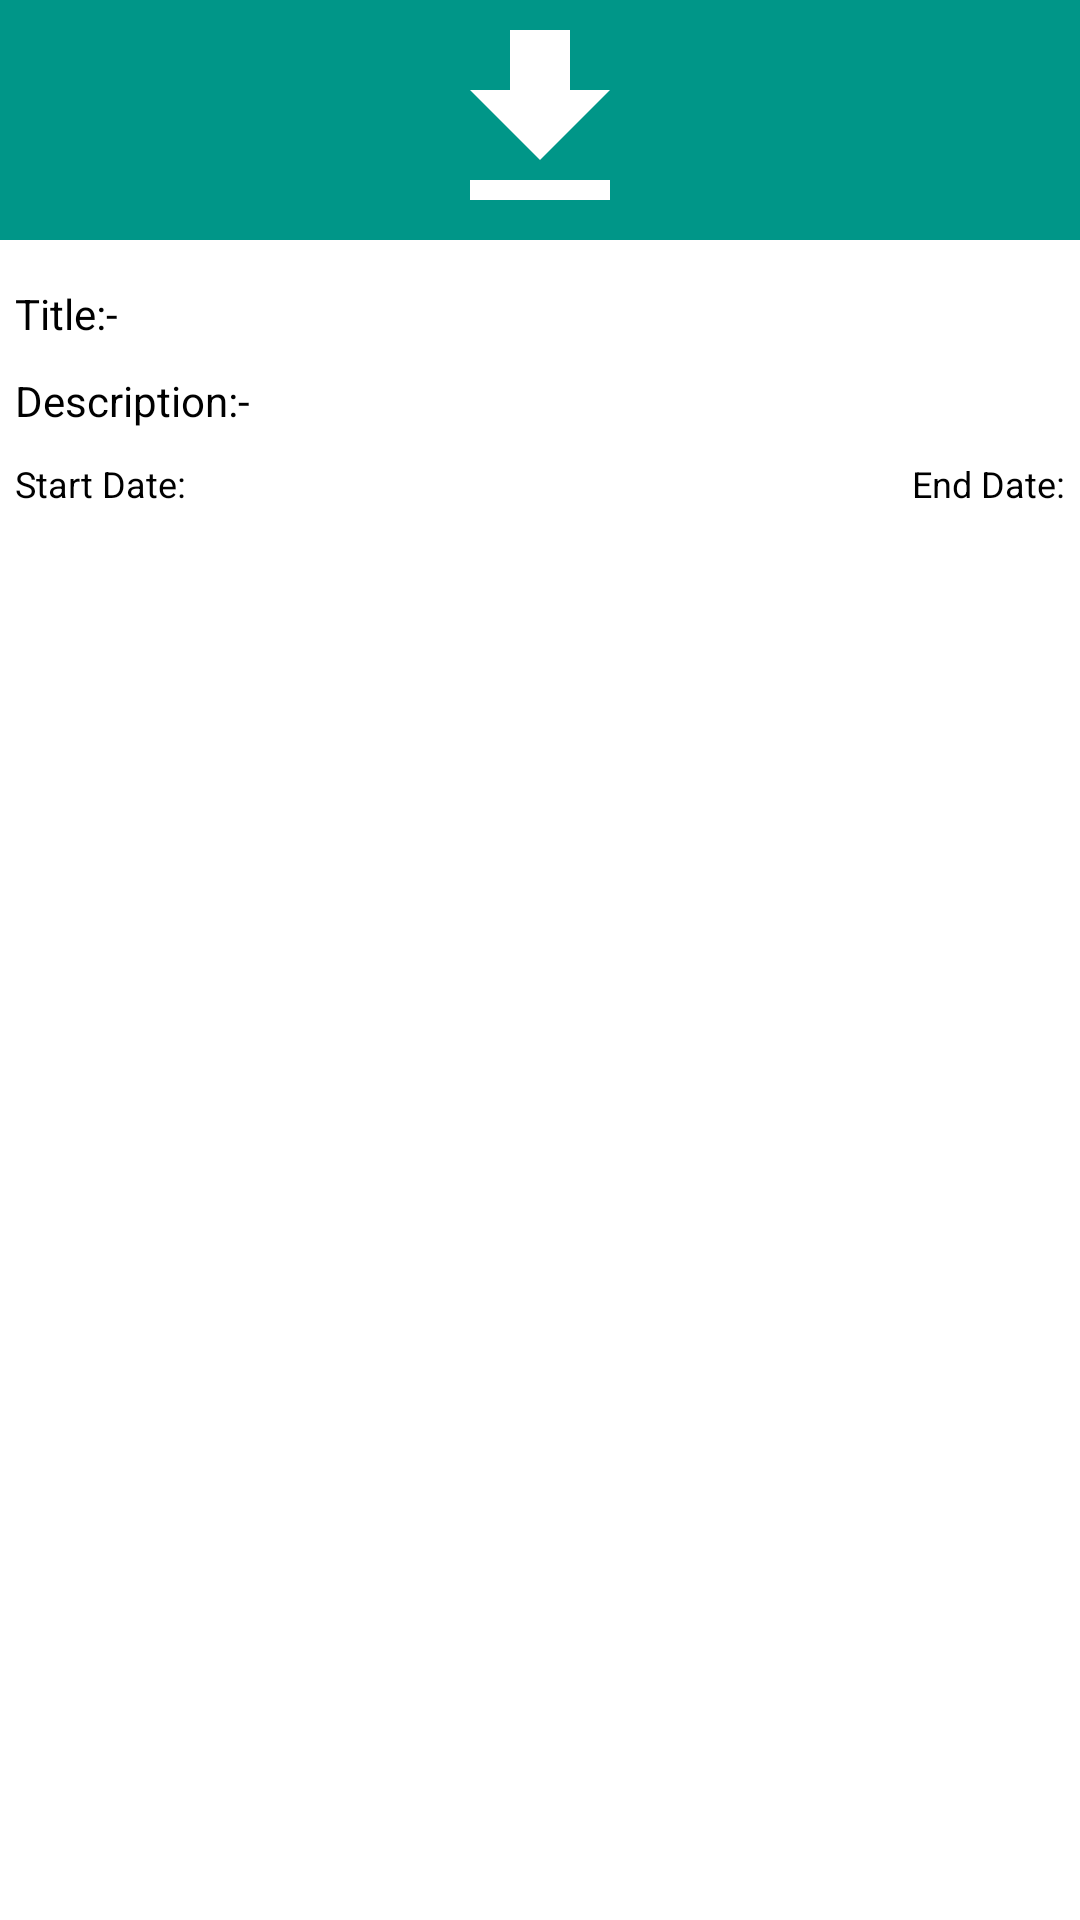

Icons on this 1080px x 1920px Android screen, each with the point to tap as [x,y]:
file download: [540,115]
